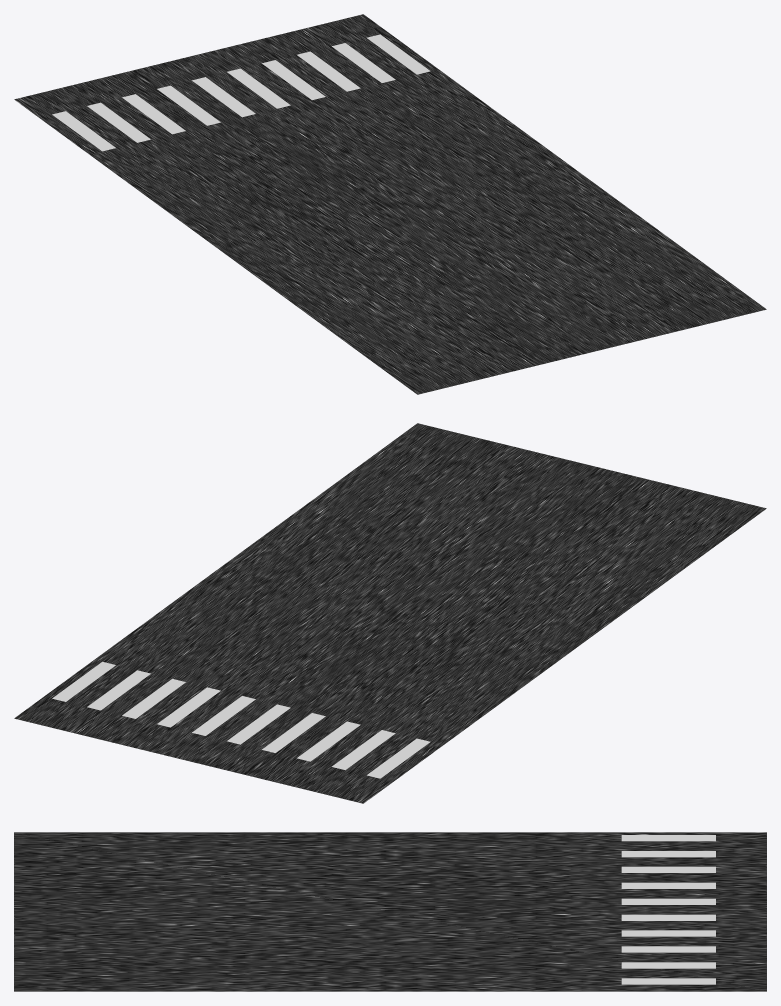
3 views of the same model, one above another, from view 1: azimuth 30°, elevation 25°; view 2: azimuth 150°, elevation 25°; view 3: azimuth 270°, elevation 25° (orthographic). The views are drawn at different scales.
Parts seen in each view (by area): view 1: Box001, Box005, Box006, Box010, Box003, Box004, Box007, Box009, Box011, Box008, Box002; view 2: Box001, Box002, Box006, Box003, Box008, Box011, Box004, Box009, Box010, Box007, Box005; view 3: Box001, Box002, Box003, Box004, Box011, Box005, Box006, Box007, Box008, Box009, Box010.
Part boxes in pixels (x1,y1,x2,y2): Box001: (14, 14, 766, 394); Box005: (227, 68, 290, 108); Box006: (192, 77, 255, 117); Box010: (52, 111, 115, 151); Box003: (297, 51, 360, 91); Box004: (262, 60, 325, 100); Box007: (157, 85, 220, 125); Box009: (87, 102, 150, 142); Box011: (366, 34, 430, 74); Box008: (122, 94, 185, 134); Box002: (332, 43, 395, 82); Box001: (14, 423, 766, 803); Box002: (87, 670, 150, 710); Box006: (227, 704, 290, 744); Box003: (122, 678, 185, 718); Box008: (297, 721, 360, 761); Box011: (52, 661, 115, 701); Box004: (157, 687, 220, 727); Box009: (332, 730, 395, 770); Box010: (367, 738, 430, 778); Box007: (262, 713, 325, 752); Box005: (192, 696, 255, 735); Box001: (14, 832, 766, 991); Box002: (621, 962, 715, 968); Box003: (621, 946, 715, 952); Box004: (621, 930, 715, 936); Box011: (621, 978, 715, 984); Box005: (621, 914, 715, 920); Box006: (621, 898, 715, 904); Box007: (621, 882, 715, 888); Box008: (621, 866, 715, 872); Box009: (621, 851, 715, 857); Box010: (621, 835, 715, 841).
Bounding box in the file's own units: 20 × 0.1318 × 40.
1 material, 1 textured.
